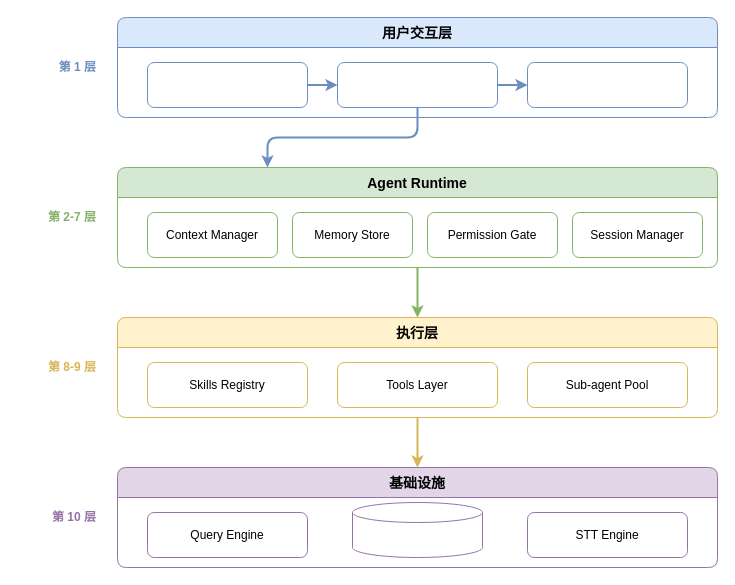
Image size: 735x585. Some labels were removed from this diagram. The centre of each missing label's shape, as x and y in pixels:
"CLI / Web UI" goes at [227,85].
"Command Layer" goes at [417,85].
"Hook Pipeline" goes at [607,85].
"Knowledge Base" goes at [417,530].
